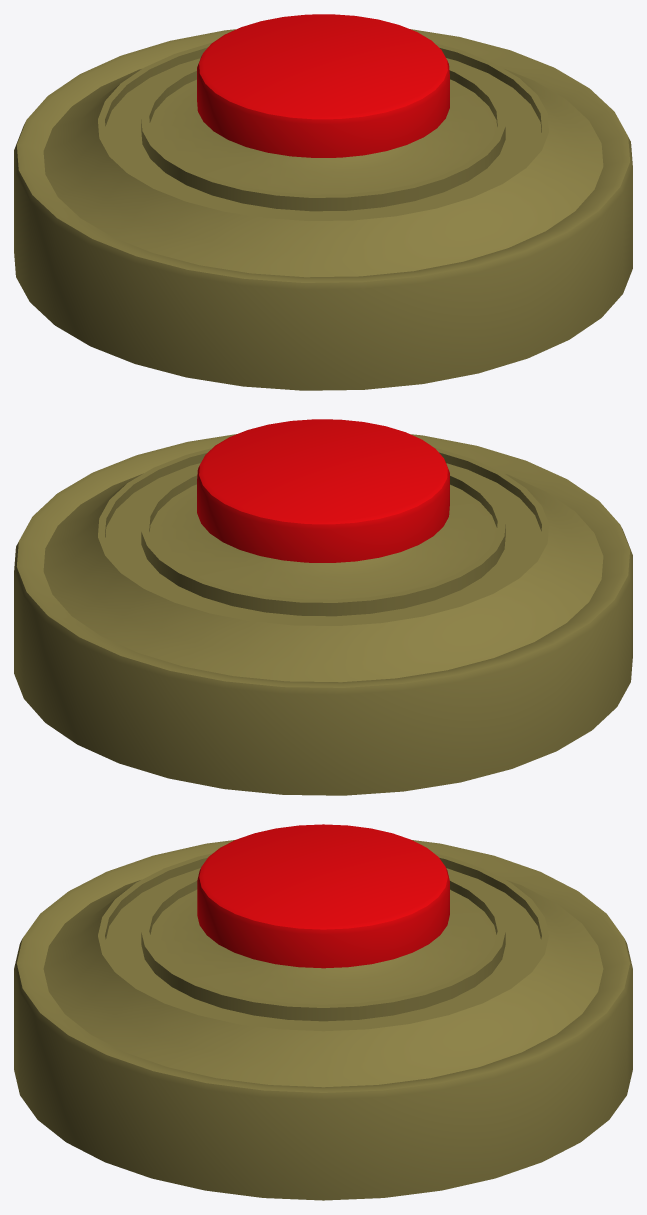
File: mine1.fbx
The picture shows the model from 3 angles, top to bottom: view 1: azimuth 30°, elevation 25°; view 2: azimuth 150°, elevation 25°; view 3: azimuth 270°, elevation 25°; orthographic projection.
Parts seen in each view (by area): view 1: Cylinder; view 2: Cylinder; view 3: Cylinder.
Boxes of the visible parts, <box> form: Cylinder: <box>14,14,632,390</box>; Cylinder: <box>14,419,632,795</box>; Cylinder: <box>14,824,632,1200</box>.
Bounding box in the file's own units: 52.99 × 18.37 × 52.99.
